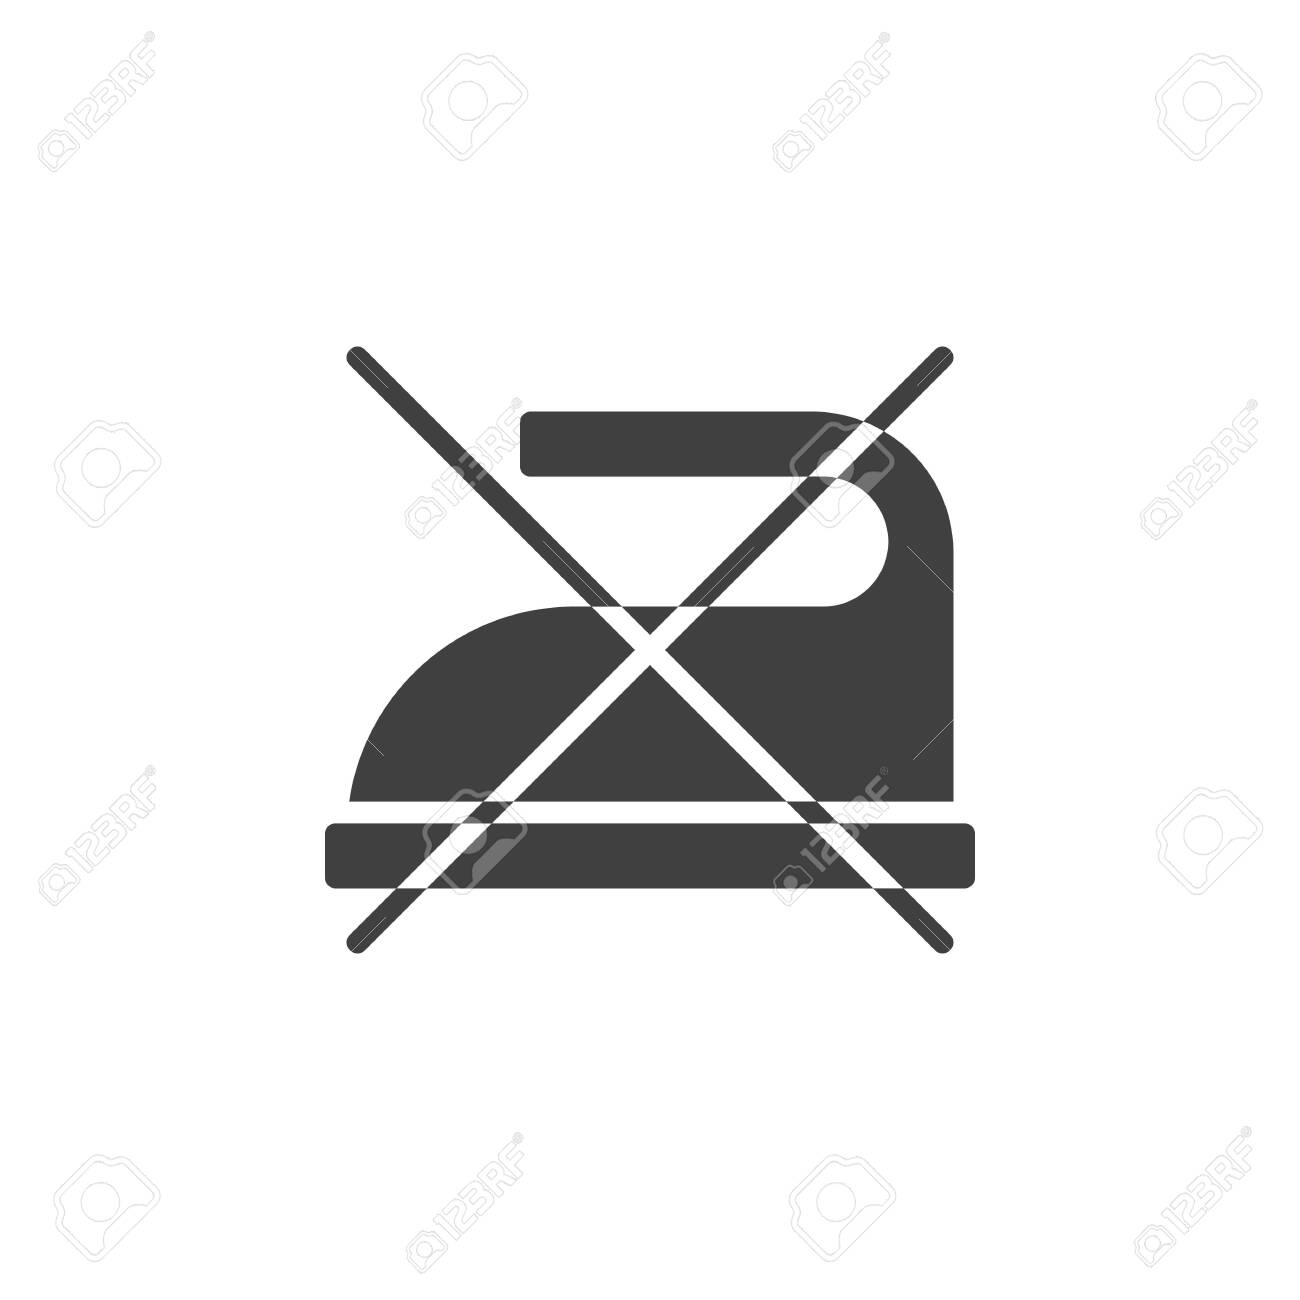do_not_iron: (324, 342, 979, 954)
